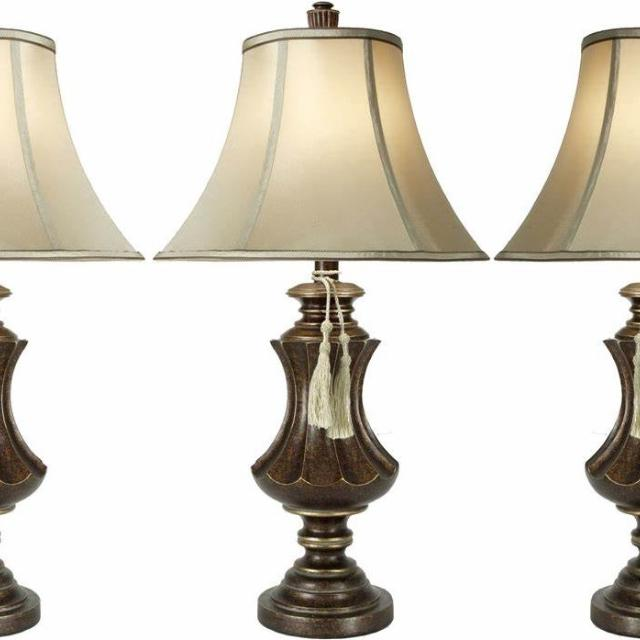lamp: (177, 4, 474, 640), (509, 27, 640, 264), (0, 27, 119, 262)
